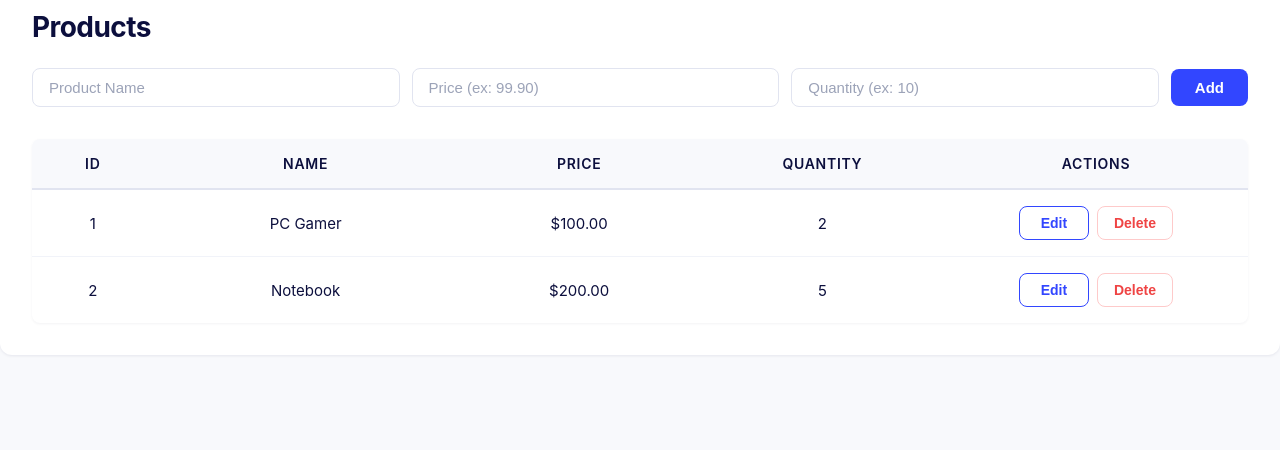
Test: Products Component - Suite Completa › Tratamento de Erros › exibe erro ao falhar deleção de produto
expect the text "PC Gamer" is shown: met, box x1=154 y1=190 x2=458 y2=257
Click the button "Delete" in the row of "PC Gamer".
click(1135, 223)  # box x1=1097 y1=206 x2=1173 y2=240
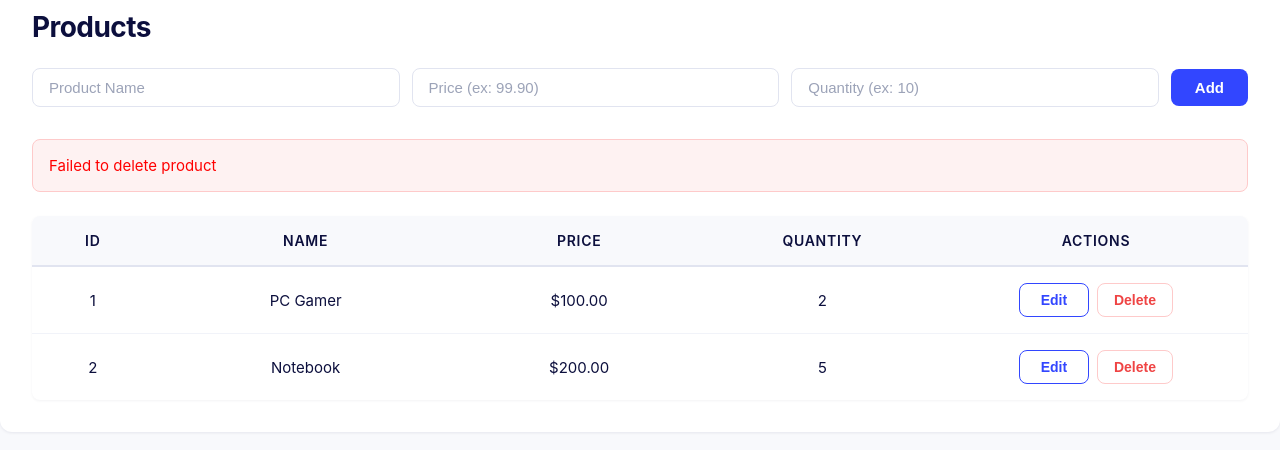
expect the text "Failed to delete product" is shown: met, box x1=32 y1=139 x2=1248 y2=192
